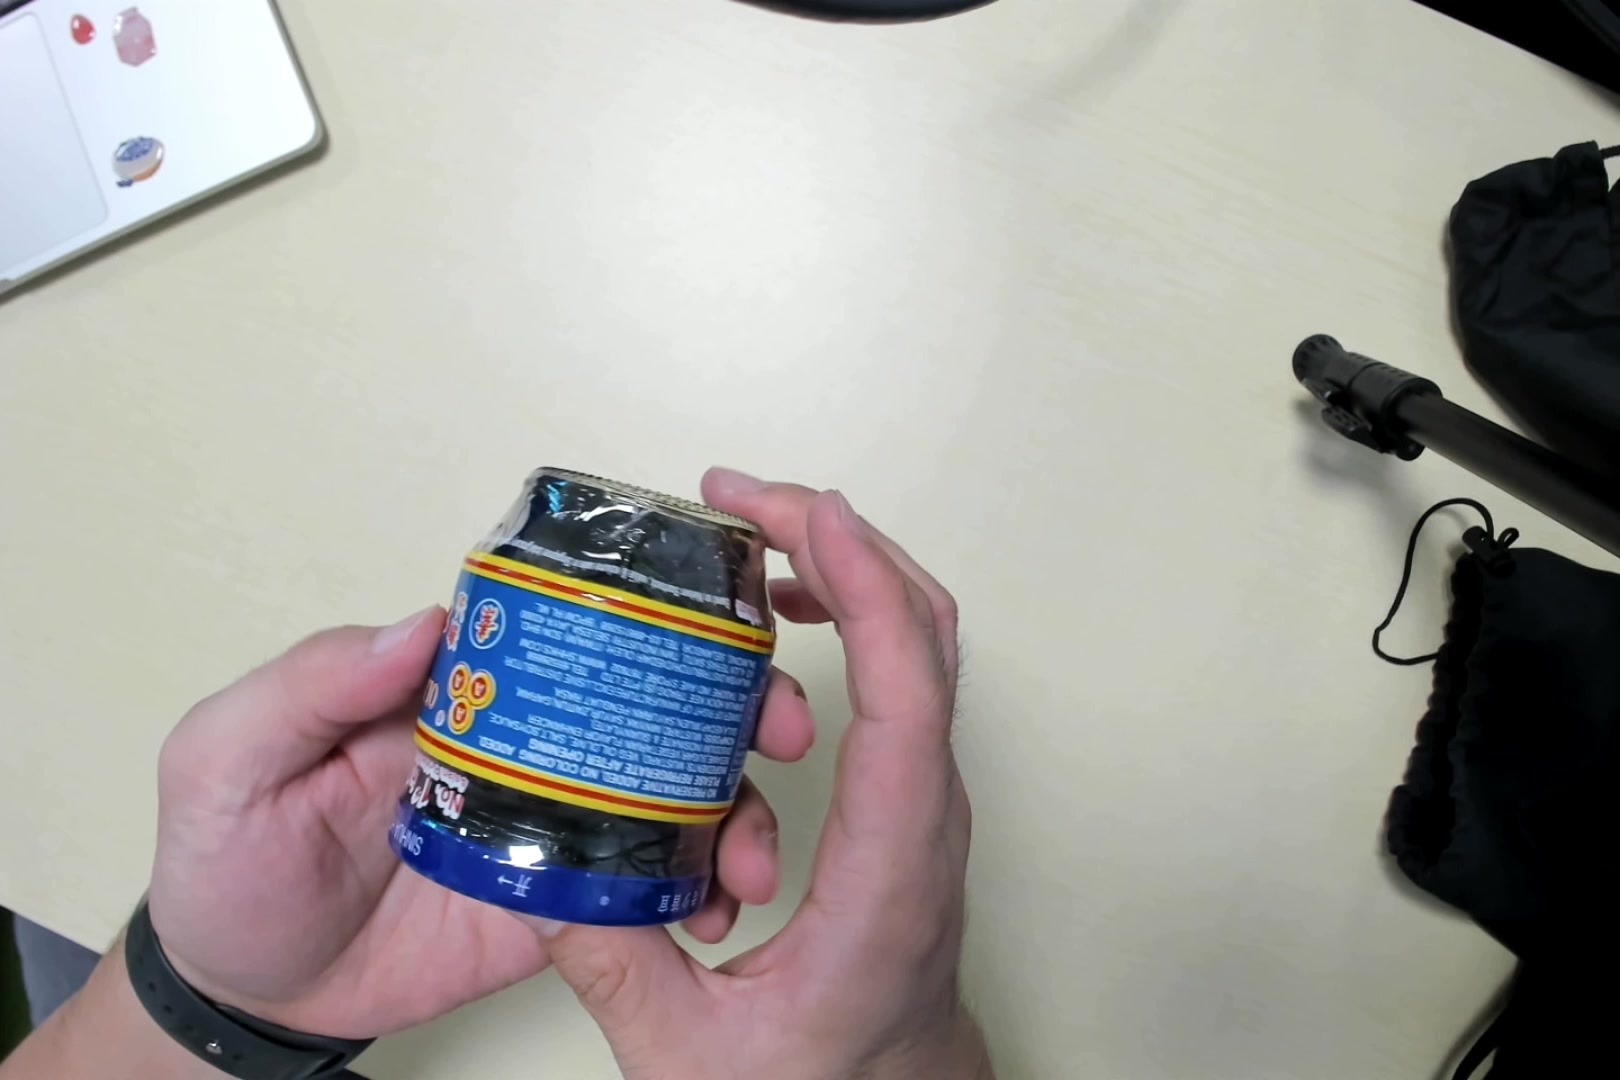CannedPickles_100-199g_NonHalal_NonHealthy: (387, 468, 770, 928)
